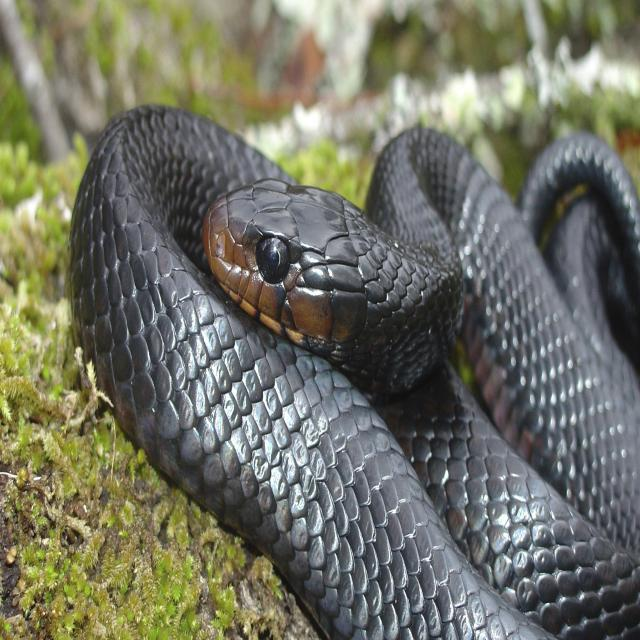Snake: (60, 6, 640, 621)
